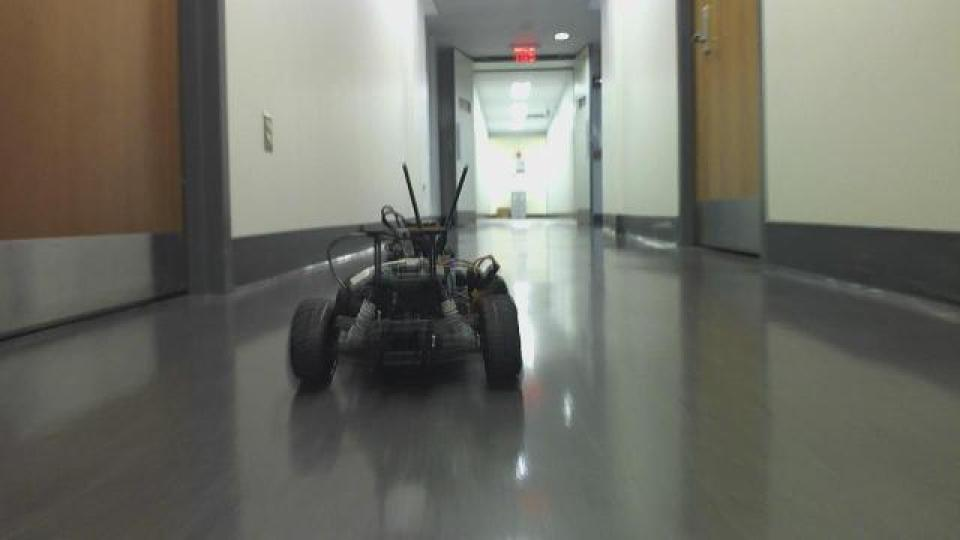car: (285, 161, 525, 393)
